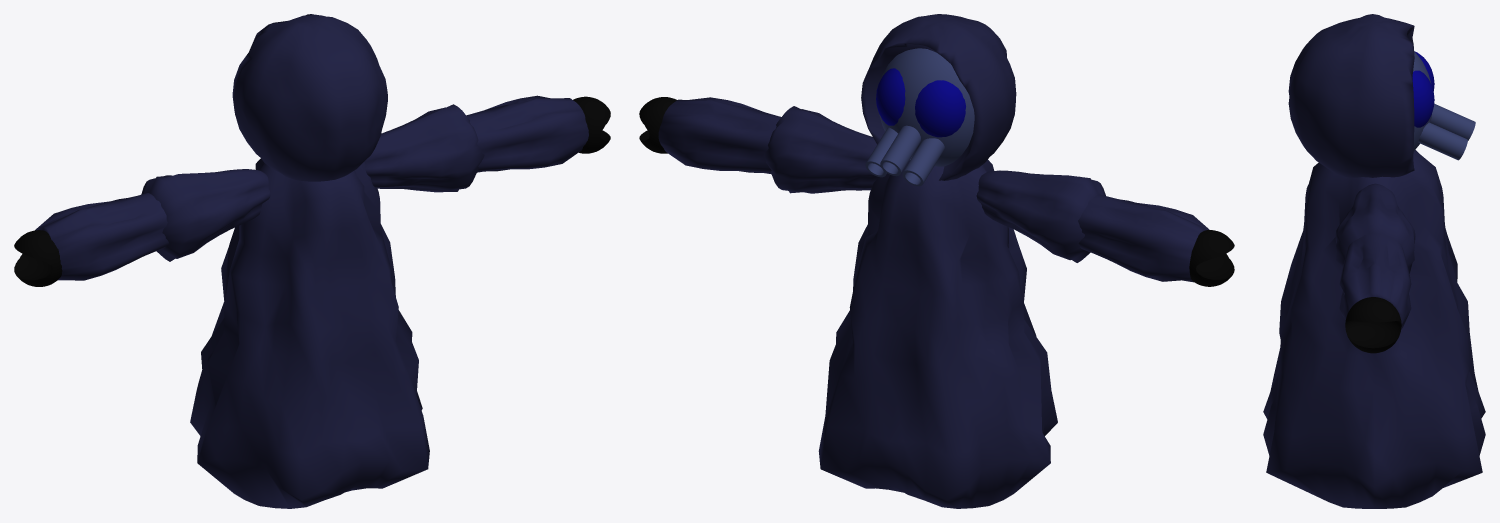
File: monster_enemy.glb
3 views of the same model, side by side, from view 1: azimuth 30°, elevation 25°; view 2: azimuth 150°, elevation 25°; view 3: azimuth 270°, elevation 25° (orthographic).
Visible parts, largest first — view 1: Sphere, Sphere.010, Sphere.001, Sphere.005, Sphere.006, Sphere.002, Sphere.003, Sphere.004; view 2: Sphere, Sphere.010, Sphere.005, Sphere.001, Sphere.006, Sphere.002, Sphere.007, Sphere.008, Sphere.003, Sphere.009, Cylinder, Cylinder.001 (+2 smaller); view 3: Sphere, Sphere.010, Sphere.002, Sphere.001, Sphere.004, Cylinder.002, Sphere.009, Cylinder, Sphere.007.
Part boxes in pixels (x1=…): Sphere: x1=190, y1=158, x2=429, y2=508; Sphere.010: x1=232, y1=14, x2=387, y2=181; Sphere.001: x1=364, y1=104, x2=484, y2=192; Sphere.005: x1=35, y1=193, x2=169, y2=280; Sphere.006: x1=141, y1=169, x2=270, y2=261; Sphere.002: x1=466, y1=95, x2=588, y2=172; Sphere.003: x1=14, y1=230, x2=62, y2=286; Sphere.004: x1=573, y1=96, x2=610, y2=153; Sphere: x1=818, y1=159, x2=1057, y2=508; Sphere.010: x1=861, y1=14, x2=1016, y2=180; Sphere.005: x1=1078, y1=194, x2=1209, y2=282; Sphere.001: x1=763, y1=106, x2=879, y2=193; Sphere.006: x1=976, y1=170, x2=1105, y2=262; Sphere.002: x1=658, y1=97, x2=781, y2=174; Sphere.007: x1=879, y1=48, x2=974, y2=166; Sphere.008: x1=915, y1=80, x2=965, y2=137; Sphere.003: x1=1189, y1=230, x2=1234, y2=286; Sphere.009: x1=876, y1=68, x2=905, y2=125; Cylinder: x1=880, y1=125, x2=920, y2=176; Cylinder.001: x1=902, y1=138, x2=944, y2=186; Sphere: x1=1263, y1=150, x2=1485, y2=508; Sphere.010: x1=1288, y1=14, x2=1414, y2=177; Sphere.002: x1=1339, y1=233, x2=1411, y2=328; Sphere.001: x1=1335, y1=183, x2=1415, y2=273; Sphere.004: x1=1345, y1=297, x2=1401, y2=353; Cylinder.002: x1=1418, y1=122, x2=1467, y2=160; Sphere.009: x1=1412, y1=70, x2=1434, y2=127; Cylinder: x1=1430, y1=103, x2=1475, y2=140; Sphere.007: x1=1413, y1=51, x2=1431, y2=151.
Bounding box in the file's own units: 6.71 × 4.99 × 2.22.
